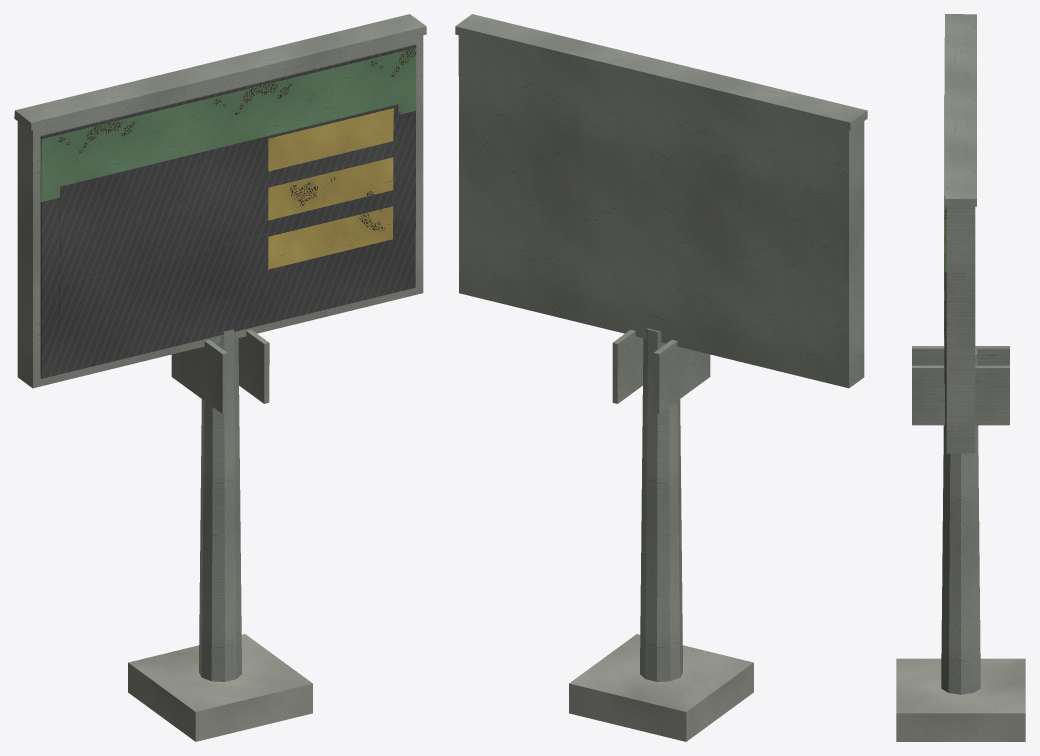
Rendered from roadsign_v3.glb.
3 renders of one model, left to right at view 1: azimuth 30°, elevation 25°; view 2: azimuth 150°, elevation 25°; view 3: azimuth 270°, elevation 25°, orthographic. The views are drawn at different scales.
Visible parts, largest first — view 1: Variant_roadsign_3; view 2: Variant_roadsign_3; view 3: Variant_roadsign_3.
Part boxes in pixels (x1=…): Variant_roadsign_3: x1=14, y1=14, x2=426, y2=741; Variant_roadsign_3: x1=455, y1=14, x2=867, y2=741; Variant_roadsign_3: x1=896, y1=14, x2=1025, y2=741.
Size of the model in its own units: 3.04 by 4.66 by 0.9.
Materials: 5 (5 with a texture image).
